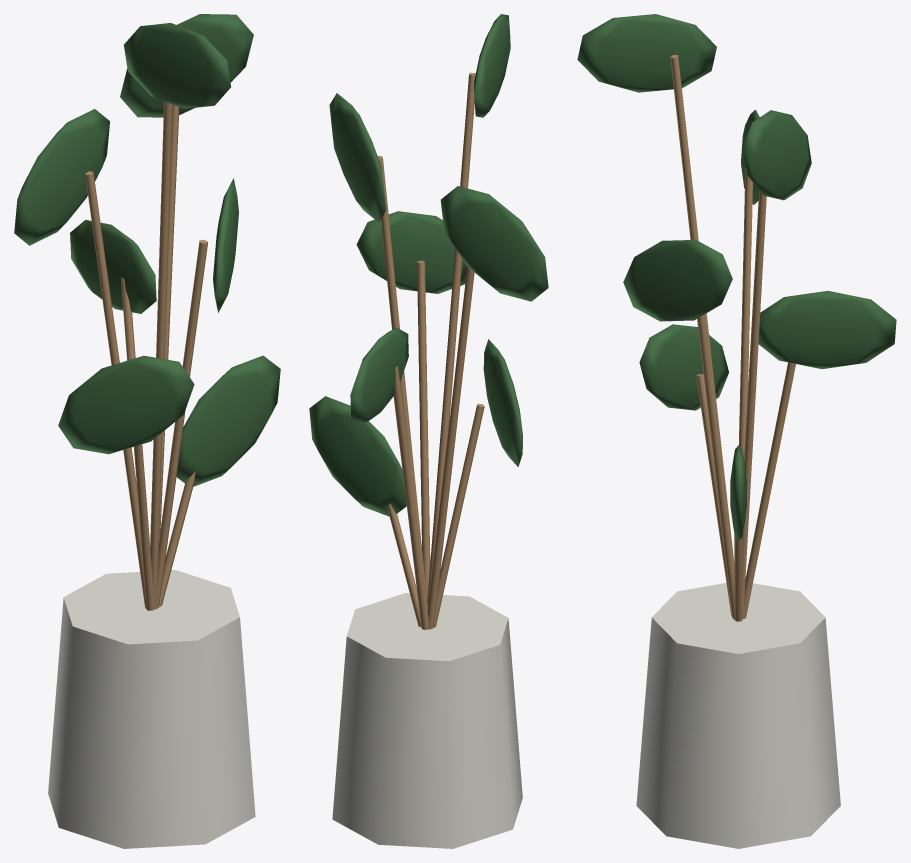
File: plant-1.glb
3 renders of one model, left to right at view 1: azimuth 30°, elevation 25°; view 2: azimuth 150°, elevation 25°; view 3: azimuth 270°, elevation 25°, orthographic. The views are drawn at different scales.
Parts seen in each view (by area): view 1: plant:1:editor; view 2: plant:1:editor; view 3: plant:1:editor.
Part boxes in pixels (x1,y1,x2,y2): plant:1:editor: (14,14,280,848); plant:1:editor: (309,14,548,848); plant:1:editor: (577,14,896,848).
Bounding box in the file's own units: 0.3963 × 1.18 × 0.4365.
